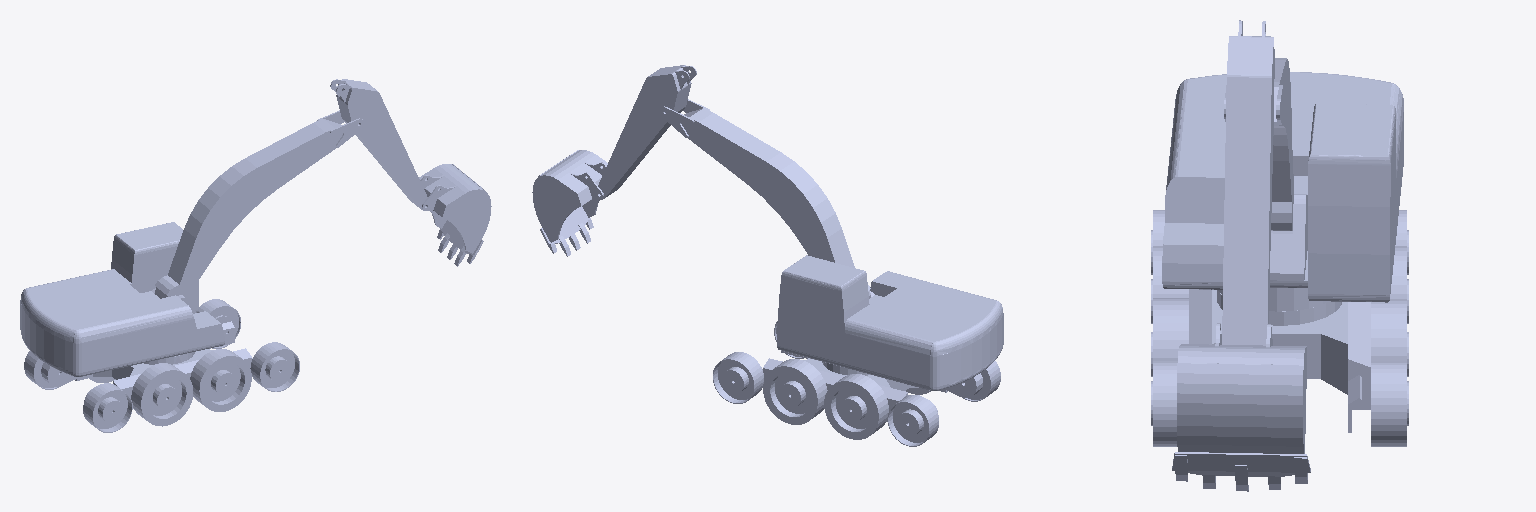
URDF robot description (huina):
<?xml version="1.0" encoding="utf-8"?>
<!-- This URDF was automatically created by SolidWorks to URDF Exporter! Originally created by [author] ([email redacted]) 
     Commit Version: 1.6.0-1-g15f4949  Build Version: 1.6.7594.29634
     For more information, please see http://wiki.ros.org/sw_urdf_exporter -->
<robot
  name="huina">
  <link
    name="car_body">
    <inertial>
      <origin
        xyz="0.0277036815852469 -0.00448633462860135 -0.0849680860031838"
        rpy="0 0 0" />
      <mass
        value="0.588422576644468" />
      <inertia
        ixx="0.000886956202886545"
        ixy="-8.76238916355358E-17"
        ixz="-1.19296623982282E-05"
        iyy="0.00140658012044969"
        iyz="4.01026179745227E-18"
        izz="0.0021437105823274" />
    </inertial>
    <visual>
      <origin
        xyz="0 0 0"
        rpy="0 0 0" />
      <geometry>
        <mesh
          filename="package://huina/meshes/car_body.STL" />
      </geometry>
      <material
        name="">
        <color
          rgba="0.792156862745098 0.819607843137255 0.933333333333333 1" />
      </material>
    </visual>
    <collision>
      <origin
        xyz="0 0 0"
        rpy="0 0 0" />
      <geometry>
        <mesh
          filename="package://huina/meshes/car_body.STL" />
      </geometry>
    </collision>
  </link>
  <link
    name="base">
    <inertial>
      <origin
        xyz="-0.0516578618406733 0.00730392376929956 -0.0106979824392101"
        rpy="0 0 0" />
      <mass
        value="1.96019666506883" />
      <inertia
        ixx="0.00456681352935427"
        ixy="-0.00106904041983792"
        ixz="-0.000329653626868119"
        iyy="0.00854946117492935"
        iyz="-0.00046062303413282"
        izz="0.0109134582035535" />
    </inertial>
    <visual>
      <origin
        xyz="0 0 0"
        rpy="0 0 0" />
      <geometry>
        <mesh
          filename="package://huina/meshes/base.STL" />
      </geometry>
      <material
        name="">
        <color
          rgba="0.792156862745098 0.819607843137255 0.933333333333333 1" />
      </material>
    </visual>
    <collision>
      <origin
        xyz="0 0 0"
        rpy="0 0 0" />
      <geometry>
        <mesh
          filename="package://huina/meshes/base.STL" />
      </geometry>
    </collision>
  </link>
  <joint
    name="base"
    type="revolute">
    <origin
      xyz="0.03319766986659 -0.00448633462860348 0"
      rpy="0 0 -0.0437181825672099" />
    <parent
      link="car_body" />
    <child
      link="base" />
    <axis
      xyz="0 0 1" />
    <limit
      lower="-3.14"
      upper="3.14"
      effort="10"
      velocity="300" />
  </joint>
  <link
    name="boom">
    <inertial>
      <origin
        xyz="0.120439212469446 -0.0065000000000165 0.063340673199285"
        rpy="0 0 0" />
      <mass
        value="0.346577116035154" />
      <inertia
        ixx="0.000324111767708899"
        ixy="2.98306369298125E-16"
        ixz="-0.000595793208342359"
        iyy="0.00229961062751601"
        iyz="8.44322441823087E-17"
        izz="0.00203231488392336" />
    </inertial>
    <visual>
      <origin
        xyz="0 0 0"
        rpy="0 0 0" />
      <geometry>
        <mesh
          filename="package://huina/meshes/boom.STL" />
      </geometry>
      <material
        name="">
        <color
          rgba="0.792156862745098 0.819607843137255 0.933333333333333 1" />
      </material>
    </visual>
    <collision>
      <origin
        xyz="0 0 0"
        rpy="0 0 0" />
      <geometry>
        <mesh
          filename="package://huina/meshes/boom.STL" />
      </geometry>
    </collision>
  </link>
  <joint
    name="boom"
    type="revolute">
    <origin
      xyz="0.0130627142341879 0 0.00372992616434019"
      rpy="0 -0.361002570672547 0" />
    <parent
      link="base" />
    <child
      link="boom" />
    <axis
      xyz="0 1 0" />
    <limit
      lower="-1.04"
      upper="1.04"
      effort="10"
      velocity="300" />
  </joint>
  <link
    name="stick">
    <inertial>
      <origin
        xyz="0.0112597216830215 -0.00749999999999149 -0.0452657830637142"
        rpy="0 0 0" />
      <mass
        value="0.185038629256696" />
      <inertia
        ixx="0.000508600419330306"
        ixy="4.79251241556483E-18"
        ixz="-5.53041462385249E-05"
        iyy="0.000522620275006081"
        iyz="5.43386458740211E-17"
        izz="3.99311814760734E-05" />
    </inertial>
    <visual>
      <origin
        xyz="0 0 0"
        rpy="0 0 0" />
      <geometry>
        <mesh
          filename="package://huina/meshes/stick.STL" />
      </geometry>
      <material
        name="">
        <color
          rgba="0.792156862745098 0.819607843137255 0.933333333333333 1" />
      </material>
    </visual>
    <collision>
      <origin
        xyz="0 0 0"
        rpy="0 0 0" />
      <geometry>
        <mesh
          filename="package://huina/meshes/stick.STL" />
      </geometry>
    </collision>
  </link>
  <joint
    name="stick"
    type="revolute">
    <origin
      xyz="0.287517822311501 0 0.0832232265493627"
      rpy="0 -0.261894013736616 0" />
    <parent
      link="boom" />
    <child
      link="stick" />
    <axis
      xyz="0 1 0" />
    <limit
      lower="-1.04"
      upper="0.41"
      effort="10"
      velocity="300" />
  </joint>
  <link
    name="bucket">
    <inertial>
      <origin
        xyz="0.0506872800188194 -0.00749996910372607 -0.0103385762594749"
        rpy="0 0 0" />
      <mass
        value="0.0377327080940099" />
      <inertia
        ixx="6.52836855504669E-05"
        ixy="6.81676753113585E-11"
        ixz="8.46358419802204E-06"
        iyy="4.44464378991745E-05"
        iyz="1.0024609402386E-10"
        izz="5.17421678228667E-05" />
    </inertial>
    <visual>
      <origin
        xyz="0 0 0"
        rpy="0 0 0" />
      <geometry>
        <mesh
          filename="package://huina/meshes/bucket.STL" />
      </geometry>
      <material
        name="">
        <color
          rgba="0.792156862745098 0.819607843137255 0.933333333333333 1" />
      </material>
    </visual>
    <collision>
      <origin
        xyz="0 0 0"
        rpy="0 0 0" />
      <geometry>
        <mesh
          filename="package://huina/meshes/bucket.STL" />
      </geometry>
    </collision>
  </link>
  <joint
    name="bucket"
    type="revolute">
    <origin
      xyz="-0.00100000000000006 0 -0.1545"
      rpy="0 0.820840910158624 0" />
    <parent
      link="stick" />
    <child
      link="bucket" />
    <axis
      xyz="0 1 0" />
    <limit
      lower="-0.8"
      upper="2.61"
      effort="10"
      velocity="300" />
  </joint>
  <link
    name="eef">
    <inertial>
      <origin
        xyz="-3.46944695195361E-18 -5.55111512312578E-17 4.99999999999667E-05"
        rpy="0 0 0" />
      <mass
        value="9.99999999999929E-10" />
      <inertia
        ixx="1.66666666666617E-18"
        ixy="-9.44066784614318E-32"
        ixz="-8.63990228645343E-32"
        iyy="1.6666666666665E-18"
        iyz="-2.45932226101636E-33"
        izz="1.66666666666634E-18" />
    </inertial>
    <visual>
      <origin
        xyz="0 0 0"
        rpy="0 0 0" />
      <geometry>
        <mesh
          filename="package://huina/meshes/eef.STL" />
      </geometry>
      <material
        name="">
        <color
          rgba="0.792156862745098 0.819607843137255 0.933333333333333 1" />
      </material>
    </visual>
    <collision>
      <origin
        xyz="0 0 0"
        rpy="0 0 0" />
      <geometry>
        <mesh
          filename="package://huina/meshes/eef.STL" />
      </geometry>
    </collision>
  </link>
  <joint
    name="eef"
    type="fixed">
    <origin
      xyz="0.0546901069661451 -0.00750000000001709 -0.0753462722079562"
      rpy="2.78393523034263 0 -1.57079632679534" />
    <parent
      link="bucket" />
    <child
      link="eef" />
    <axis
      xyz="0 0 0" />
  </joint>
  <link
    name="left_rear">
    <inertial>
      <origin
        xyz="1.38777878078145E-17 0.0101730561555077 8.32667268468867E-17"
        rpy="0 0 0" />
      <mass
        value="0.0349093775666898" />
      <inertia
        ixx="6.96072266110404E-06"
        ixy="-1.11134583990572E-38"
        ixz="9.90352161931369E-38"
        iyy="1.15634085203208E-05"
        iyz="3.1122916146822E-20"
        izz="6.96072266110405E-06" />
    </inertial>
    <visual>
      <origin
        xyz="0 0 0"
        rpy="0 0 0" />
      <geometry>
        <mesh
          filename="package://huina/meshes/left_rear.STL" />
      </geometry>
      <material
        name="">
        <color
          rgba="0.792156862745098 0.819607843137255 0.933333333333333 1" />
      </material>
    </visual>
    <collision>
      <origin
        xyz="0 0 0"
        rpy="0 0 0" />
      <geometry>
        <mesh
          filename="package://huina/meshes/left_rear.STL" />
      </geometry>
    </collision>
  </link>
  <joint
    name="left_rear"
    type="continuous">
    <origin
      xyz="-0.0803023301334109 0.0540136653713965 -0.0892049098984649"
      rpy="0 0 0" />
    <parent
      link="car_body" />
    <child
      link="left_rear" />
    <axis
      xyz="0 1 0" />
  </joint>
  <link
    name="left_1">
    <inertial>
      <origin
        xyz="0 0.0108732532809099 6.93889390390723E-17"
        rpy="0 0 0" />
      <mass
        value="0.0739098941665168" />
      <inertia
        ixx="2.87221330625165E-05"
        ixy="2.06629866355479E-37"
        ixz="2.2160398176307E-37"
        iyy="5.15828136163184E-05"
        iyz="1.56515664075405E-19"
        izz="2.87221330625165E-05" />
    </inertial>
    <visual>
      <origin
        xyz="0 0 0"
        rpy="0 0 0" />
      <geometry>
        <mesh
          filename="package://huina/meshes/left_1.STL" />
      </geometry>
      <material
        name="">
        <color
          rgba="0.792156862745098 0.819607843137255 0.933333333333333 1" />
      </material>
    </visual>
    <collision>
      <origin
        xyz="0 0 0"
        rpy="0 0 0" />
      <geometry>
        <mesh
          filename="package://huina/meshes/left_1.STL" />
      </geometry>
    </collision>
  </link>
  <joint
    name="left_1"
    type="continuous">
    <origin
      xyz="-0.00555233013341085 0.0540136653713964 -0.0892049098984649"
      rpy="0 0 0" />
    <parent
      link="car_body" />
    <child
      link="left_1" />
    <axis
      xyz="0 1 0" />
  </joint>
  <link
    name="left_2">
    <inertial>
      <origin
        xyz="0 0.0108732532809099 6.93889390390723E-17"
        rpy="0 0 0" />
      <mass
        value="0.0739098941665168" />
      <inertia
        ixx="2.87221330625165E-05"
        ixy="-9.05473700315616E-39"
        ixz="2.473064231122E-37"
        iyy="5.15828136163184E-05"
        iyz="1.56515664075404E-19"
        izz="2.87221330625165E-05" />
    </inertial>
    <visual>
      <origin
        xyz="0 0 0"
        rpy="0 0 0" />
      <geometry>
        <mesh
          filename="package://huina/meshes/left_2.STL" />
      </geometry>
      <material
        name="">
        <color
          rgba="0.792156862745098 0.819607843137255 0.933333333333333 1" />
      </material>
    </visual>
    <collision>
      <origin
        xyz="0 0 0"
        rpy="0 0 0" />
      <geometry>
        <mesh
          filename="package://huina/meshes/left_2.STL" />
      </geometry>
    </collision>
  </link>
  <joint
    name="left_2"
    type="continuous">
    <origin
      xyz="0.0744476698665892 0.0540136653713964 -0.0892049098984649"
      rpy="0 0 0" />
    <parent
      link="car_body" />
    <child
      link="left_2" />
    <axis
      xyz="0 1 0" />
  </joint>
  <link
    name="left_3">
    <inertial>
      <origin
        xyz="-2.77555756156289E-17 0.0101730561555077 8.32667268468867E-17"
        rpy="0 0 0" />
      <mass
        value="0.0349093775666898" />
      <inertia
        ixx="6.96072266110404E-06"
        ixy="-1.11134583990572E-38"
        ixz="9.90352161931369E-38"
        iyy="1.15634085203208E-05"
        iyz="3.1122916146822E-20"
        izz="6.96072266110405E-06" />
    </inertial>
    <visual>
      <origin
        xyz="0 0 0"
        rpy="0 0 0" />
      <geometry>
        <mesh
          filename="package://huina/meshes/left_3.STL" />
      </geometry>
      <material
        name="">
        <color
          rgba="0.792156862745098 0.819607843137255 0.933333333333333 1" />
      </material>
    </visual>
    <collision>
      <origin
        xyz="0 0 0"
        rpy="0 0 0" />
      <geometry>
        <mesh
          filename="package://huina/meshes/left_3.STL" />
      </geometry>
    </collision>
  </link>
  <joint
    name="left_3"
    type="continuous">
    <origin
      xyz="0.149197669866589 0.0540136653713965 -0.0892049098984649"
      rpy="0 0 0" />
    <parent
      link="car_body" />
    <child
      link="left_3" />
    <axis
      xyz="0 1 0" />
  </joint>
  <link
    name="right_rear">
    <inertial>
      <origin
        xyz="1.38777878078145E-17 -0.0101730561555075 1.38777878078145E-17"
        rpy="0 0 0" />
      <mass
        value="0.0349093775666898" />
      <inertia
        ixx="6.96072266110407E-06"
        ixy="1.11134583990565E-38"
        ixz="-9.90352161931368E-38"
        iyy="1.15634085203208E-05"
        iyz="-8.14632703297257E-22"
        izz="6.96072266110408E-06" />
    </inertial>
    <visual>
      <origin
        xyz="0 0 0"
        rpy="0 0 0" />
      <geometry>
        <mesh
          filename="package://huina/meshes/right_rear.STL" />
      </geometry>
      <material
        name="">
        <color
          rgba="0.792156862745098 0.819607843137255 0.933333333333333 1" />
      </material>
    </visual>
    <collision>
      <origin
        xyz="0 0 0"
        rpy="0 0 0" />
      <geometry>
        <mesh
          filename="package://huina/meshes/right_rear.STL" />
      </geometry>
    </collision>
  </link>
  <joint
    name="right_rear"
    type="continuous">
    <origin
      xyz="-0.0803023301334108 -0.0629863346286033 -0.0892049098984649"
      rpy="0 0 0" />
    <parent
      link="car_body" />
    <child
      link="right_rear" />
    <axis
      xyz="0 1 0" />
  </joint>
  <link
    name="right_1">
    <inertial>
      <origin
        xyz="0 -0.0108732532809096 0"
        rpy="0 0 0" />
      <mass
        value="0.0739098941665168" />
      <inertia
        ixx="2.87221330625165E-05"
        ixy="9.05473700315438E-39"
        ixz="-2.473064231122E-37"
        iyy="5.15828136163183E-05"
        iyz="-1.49101536388842E-21"
        izz="2.87221330625165E-05" />
    </inertial>
    <visual>
      <origin
        xyz="0 0 0"
        rpy="0 0 0" />
      <geometry>
        <mesh
          filename="package://huina/meshes/right_1.STL" />
      </geometry>
      <material
        name="">
        <color
          rgba="0.792156862745098 0.819607843137255 0.933333333333333 1" />
      </material>
    </visual>
    <collision>
      <origin
        xyz="0 0 0"
        rpy="0 0 0" />
      <geometry>
        <mesh
          filename="package://huina/meshes/right_1.STL" />
      </geometry>
    </collision>
  </link>
  <joint
    name="right_1"
    type="continuous">
    <origin
      xyz="-0.00555233013341085 -0.0629863346286033 -0.0892049098984649"
      rpy="0 0 0" />
    <parent
      link="car_body" />
    <child
      link="right_1" />
    <axis
      xyz="0 1 0" />
  </joint>
  <link
    name="right_2">
    <inertial>
      <origin
        xyz="0 -0.010873 0"
        rpy="0 0 0" />
      <mass
        value="0.07391" />
      <inertia
        ixx="2.8722E-05"
        ixy="-3.5761E-21"
        ixz="1.6941E-21"
        iyy="5.1583E-05"
        iyz="-1.9395E-21"
        izz="2.8722E-05" />
    </inertial>
    <visual>
      <origin
        xyz="0 0 0"
        rpy="0 0 0" />
      <geometry>
        <mesh
          filename="package://huina/meshes/right_2.STL" />
      </geometry>
      <material
        name="">
        <color
          rgba="0.79216 0.81961 0.93333 1" />
      </material>
    </visual>
    <collision>
      <origin
        xyz="0 0 0"
        rpy="0 0 0" />
      <geometry>
        <mesh
          filename="package://huina/meshes/right_2.STL" />
      </geometry>
    </collision>
  </link>
  <joint
    name="right_2"
    type="continuous">
    <origin
      xyz="0.0744476698665892 -0.0629863346286033 -0.0892049098984649"
      rpy="-3.14159265358979 -1.02948924380112 3.14159265358979" />
    <parent
      link="car_body" />
    <child
      link="right_2" />
    <axis
      xyz="0 1 0" />
  </joint>
  <link
    name="right_3">
    <inertial>
      <origin
        xyz="-2.7756E-17 -0.010173 1.3878E-17"
        rpy="0 0 0" />
      <mass
        value="0.034909" />
      <inertia
        ixx="6.9607E-06"
        ixy="-1.4108E-24"
        ixz="5.294E-23"
        iyy="1.1563E-05"
        iyz="-1.353E-21"
        izz="6.9607E-06" />
    </inertial>
    <visual>
      <origin
        xyz="0 0 0"
        rpy="0 0 0" />
      <geometry>
        <mesh
          filename="package://huina/meshes/right_3.STL" />
      </geometry>
      <material
        name="">
        <color
          rgba="0.79216 0.81961 0.93333 1" />
      </material>
    </visual>
    <collision>
      <origin
        xyz="0 0 0"
        rpy="0 0 0" />
      <geometry>
        <mesh
          filename="package://huina/meshes/right_3.STL" />
      </geometry>
    </collision>
  </link>
  <joint
    name="right_3"
    type="continuous">
    <origin
      xyz="0.1492 -0.062986 -0.089205"
      rpy="0 0.043635 0" />
    <parent
      link="car_body" />
    <child
      link="right_3" />
    <axis
      xyz="0 1 0" />
  </joint>
</robot>

--- Render facts (derived) ---
3 views of the same robot in one strip: view 1: azimuth 30°, elevation 25°; view 2: azimuth 150°, elevation 25°; view 3: azimuth 270°, elevation 25° (orthographic).
Robot: huina — 14 links, 13 joints (4 revolute, 8 continuous, 1 fixed); root link car_body; default pose: every joint at zero.
Visible links, largest first — view 1: base, boom, bucket, stick, right_1, right_2, car_body, right_rear, right_3, left_3, left_rear; view 2: base, boom, bucket, stick, left_1, left_2, left_rear, left_3, car_body, right_rear; view 3: base, bucket, stick, car_body, boom, left_3, left_2, right_2, right_3, left_1, right_1.
Boxes of the visible links, x1,y1,x2,y2 form: base: (20, 222, 224, 376); boom: (155, 110, 364, 304); bucket: (419, 164, 491, 266); stick: (330, 79, 427, 210); right_1: (131, 363, 192, 426); right_2: (190, 349, 251, 411); car_body: (41, 321, 252, 408); right_rear: (83, 383, 132, 432); right_3: (250, 342, 299, 391); left_3: (199, 299, 240, 348); left_rear: (24, 351, 60, 389); base: (777, 255, 1003, 390); boom: (660, 99, 870, 298); bucket: (532, 150, 607, 256); stick: (598, 65, 696, 199); left_1: (824, 374, 888, 439); left_2: (763, 359, 827, 424); left_rear: (888, 395, 938, 446); left_3: (713, 352, 763, 403); car_body: (762, 351, 982, 421); right_rear: (963, 361, 1000, 401); base: (1162, 72, 1403, 311); bucket: (1172, 323, 1310, 491); stick: (1222, 20, 1274, 345); car_body: (1189, 289, 1370, 432); boom: (1224, 58, 1293, 230); left_3: (1371, 361, 1408, 446); left_2: (1371, 299, 1408, 376); right_2: (1151, 298, 1188, 376); right_3: (1151, 361, 1177, 446); left_1: (1390, 246, 1408, 323); right_1: (1151, 246, 1188, 323).
Bounding box of the posed robot: 0.5855 × 0.165 × 0.3611 m (x, y, z).
Meshes: 14 distinct files referenced, 14 mesh visuals loaded (14 binary STL).
